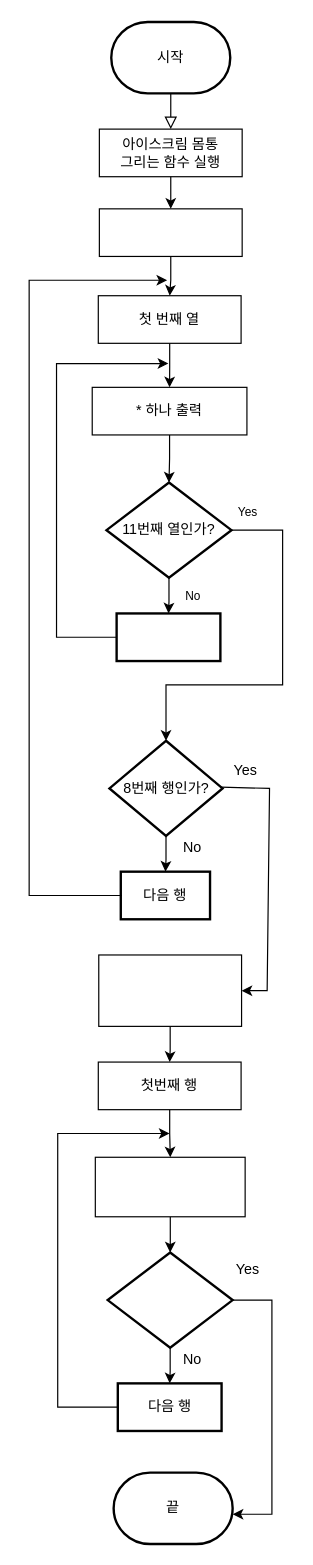
Some shapes in this 313 by 1565 pixel diagram are drawn without their labels. Here are the shapes that lost their labels. From the top down, the centre of each, then its label:
At pixel 170 232: "첫 번째 행".
At pixel 168 637: "다음 열".
At pixel 170 990: "아이스크림의 막대 그리는 함수 실행".
At pixel 169 1186: "막대 그리기".
At pixel 169 1299: "4번째 행인가?".
